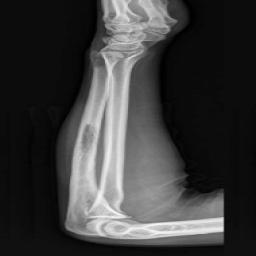cancer: (69, 120, 103, 169)
